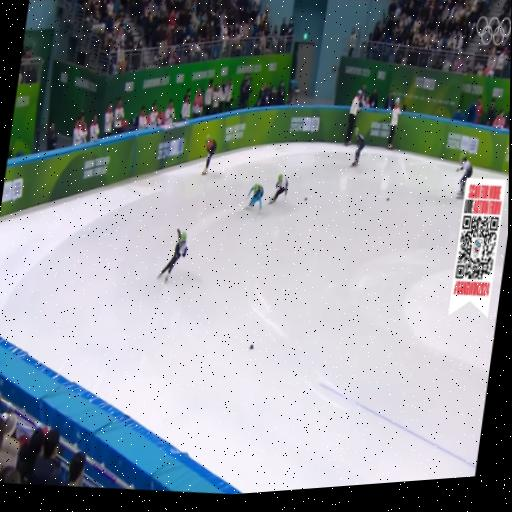Skater: (158, 230, 187, 281), (457, 153, 472, 198), (202, 135, 216, 175), (269, 174, 288, 203), (352, 128, 365, 167), (248, 184, 264, 210)
